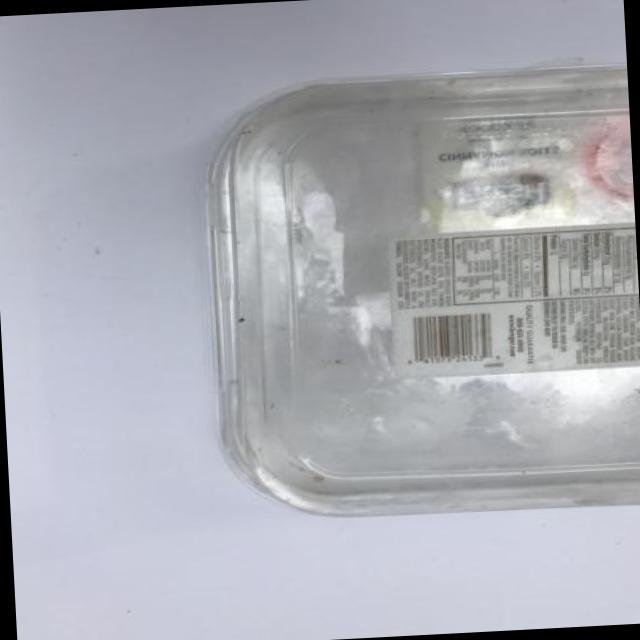Clamshell: (183, 49, 640, 538)
Label: (379, 225, 640, 384), (416, 107, 636, 230)
